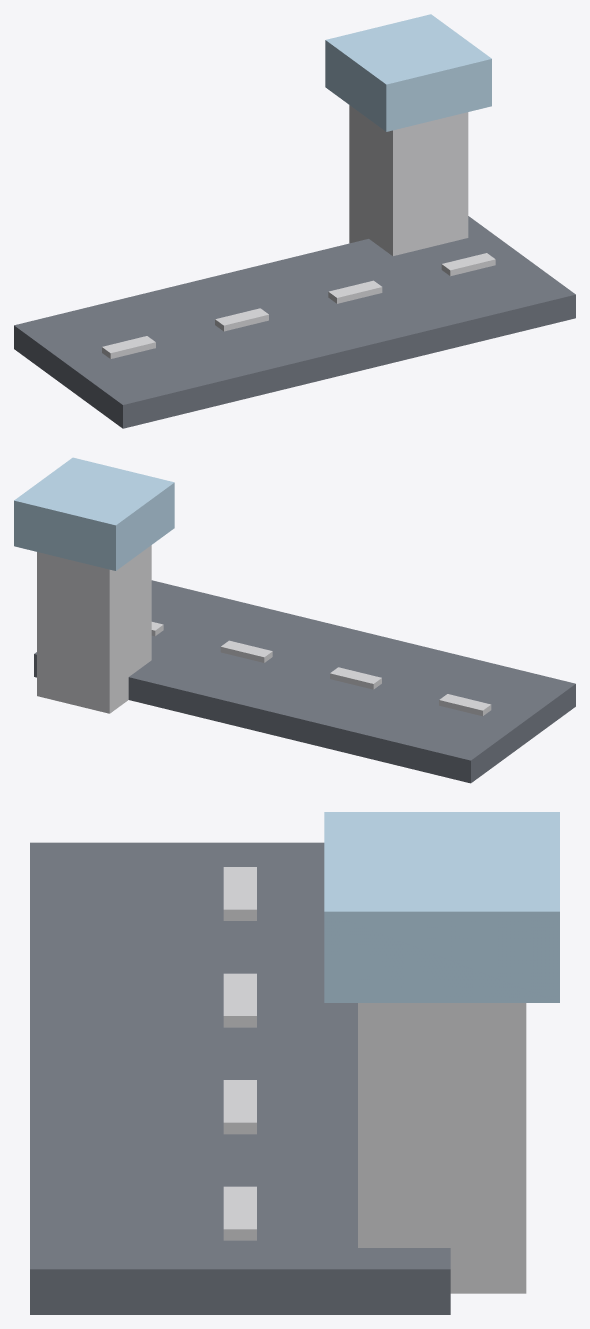
File: airbase.glb
The picture shows the model from 3 angles, top to bottom: view 1: azimuth 30°, elevation 25°; view 2: azimuth 150°, elevation 25°; view 3: azimuth 270°, elevation 25°; orthographic projection. The views are drawn at different scales.
Parts seen in each view (by area): view 1: airbase; view 2: airbase; view 3: airbase.
Part boxes in pixels (box(x1,y1,x2,y2)): airbase: box(14, 14, 575, 428); airbase: box(14, 457, 575, 783); airbase: box(30, 812, 559, 1314).
Size of the model in its own units: 0.6 by 0.26 by 0.315.
